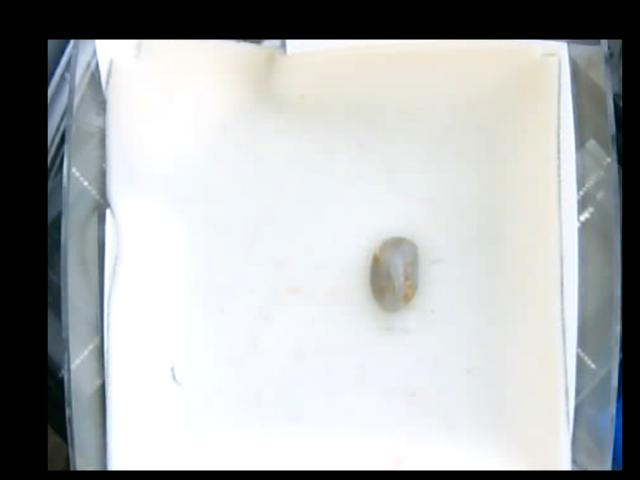Pebble: (370, 237, 419, 313)
